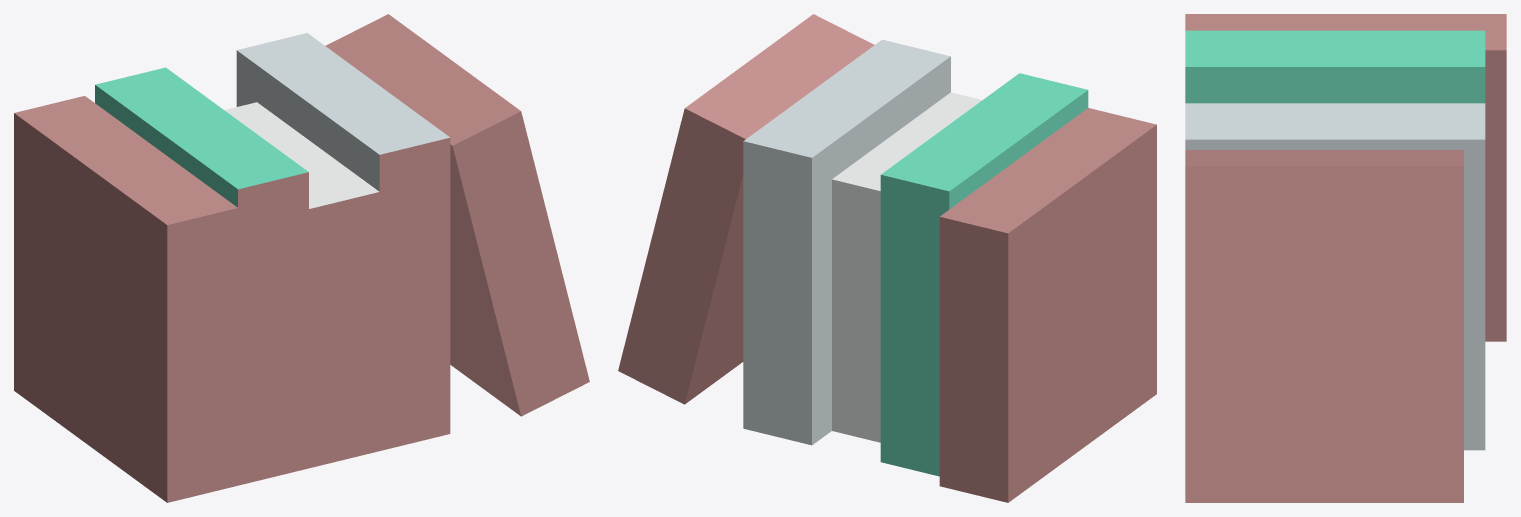
Rendered from books.gltf.
3 renders of one model, left to right at view 1: azimuth 30°, elevation 25°; view 2: azimuth 150°, elevation 25°; view 3: azimuth 270°, elevation 25°, orthographic. The views are drawn at different scales.
Parts seen in each view (by area): view 1: books; view 2: books; view 3: books.
Part boxes in pixels (x1=…): books: x1=14, y1=14, x2=589, y2=502; books: x1=618, y1=14, x2=1156, y2=502; books: x1=1185, y1=14, x2=1506, y2=502.
Bounding box in the file's own units: 1.5 × 1.04 × 0.945.
